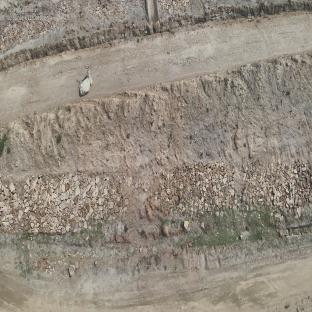rock_toe: (0, 157, 312, 233)
toe_drain: (34, 223, 312, 263)
